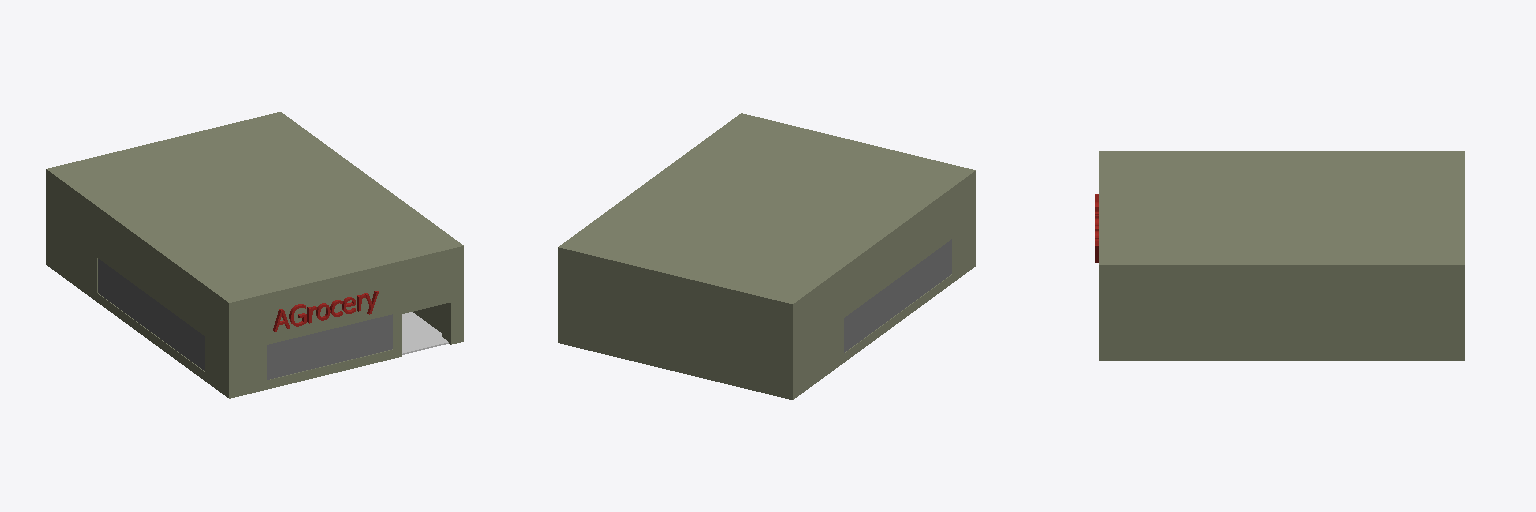
The model's file is grocery_store.obj.
3 views of the same model, side by side, from view 1: azimuth 30°, elevation 25°; view 2: azimuth 150°, elevation 25°; view 3: azimuth 270°, elevation 25° (orthographic).
Visible parts, largest first — view 1: building_building, front_window_front_window, side_window_side_window, floor1_floor1, store_name_store_name; view 2: building_building, side_window_side_window; view 3: building_building.
Boxes of the visible parts, x1,y1,x2,y2 form: building_building: [46, 112, 463, 398]; front_window_front_window: [267, 314, 392, 379]; side_window_side_window: [98, 259, 204, 370]; floor1_floor1: [402, 312, 448, 354]; store_name_store_name: [273, 291, 378, 331]; building_building: [558, 113, 975, 399]; side_window_side_window: [844, 239, 951, 352]; building_building: [1099, 151, 1464, 360].
Bounding box in the file's own units: 33.31 × 13 × 45.51.